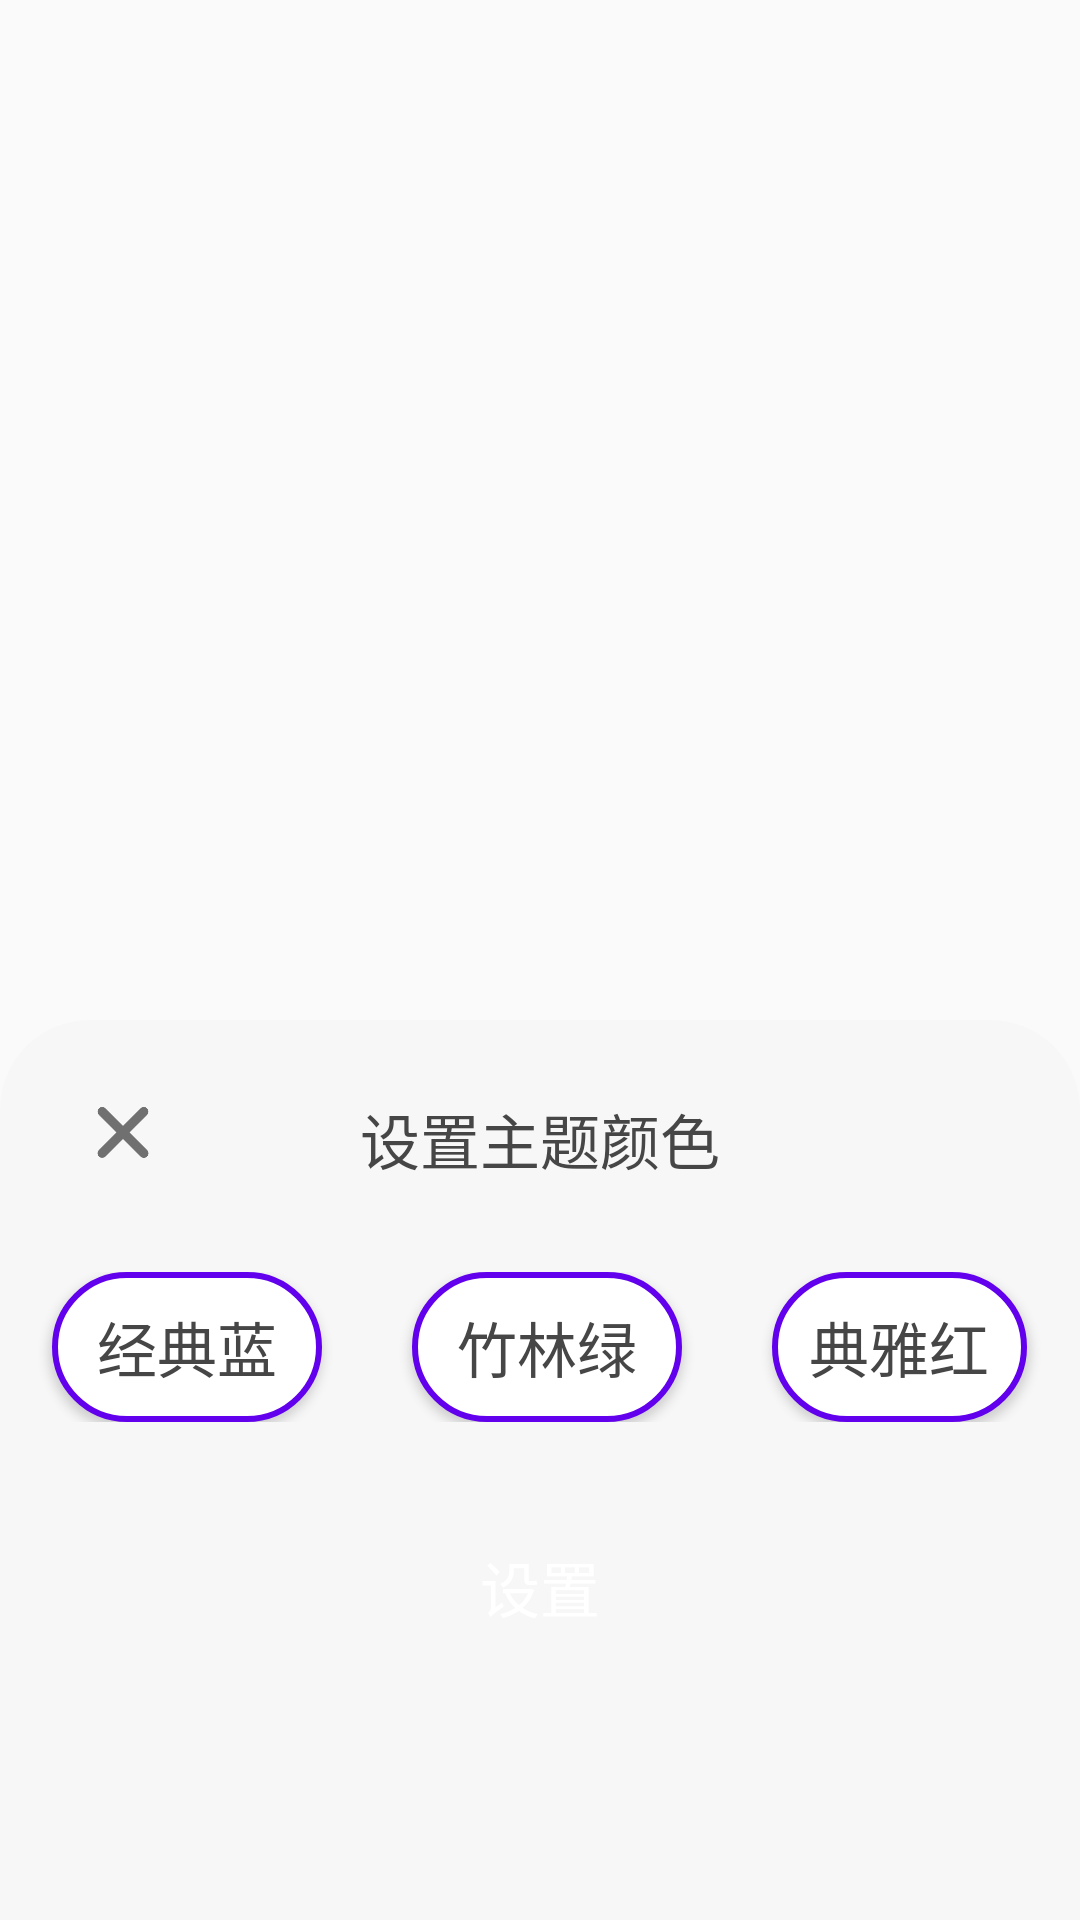

Icons on this 1080px x 1920px Android screen, each with its box as (x1, y1, x2, y2):
close: (97, 1107, 149, 1158)
